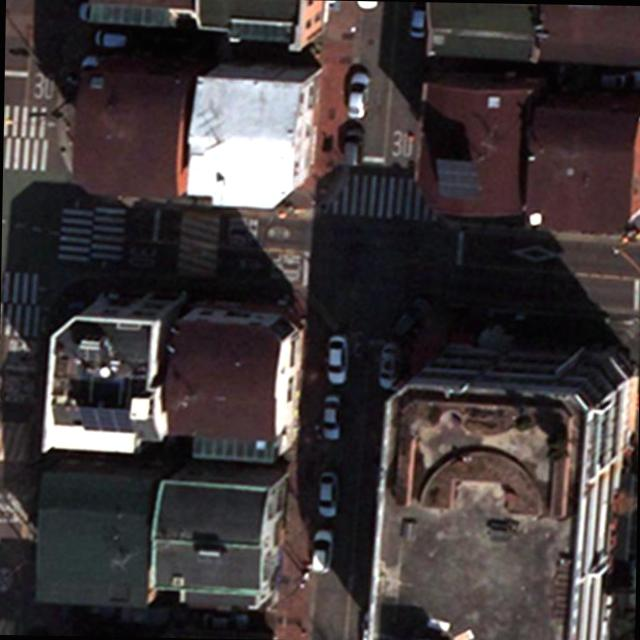solar: (430, 156, 483, 200)
